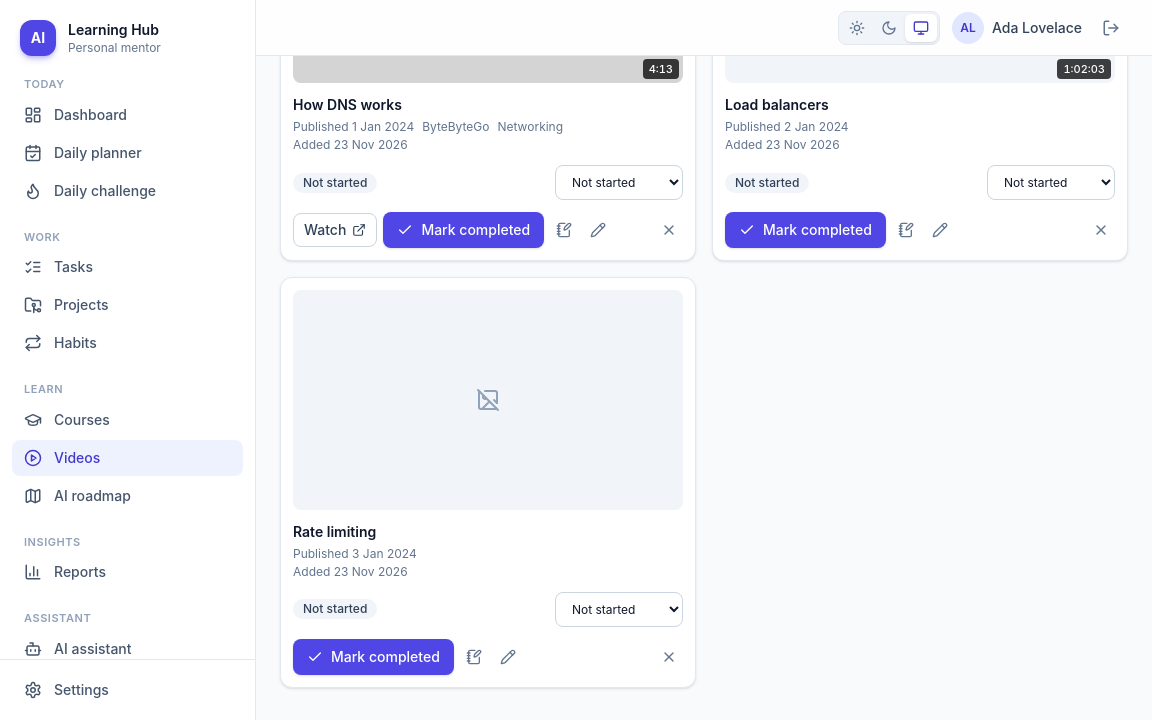
Test: video cards › shows the server's error on a card
(page scrolled)
Step 1. Click the button with aria-label "Mark Rate limiting as completed" → (373, 657), box x1=293 y1=639 x2=454 y2=675
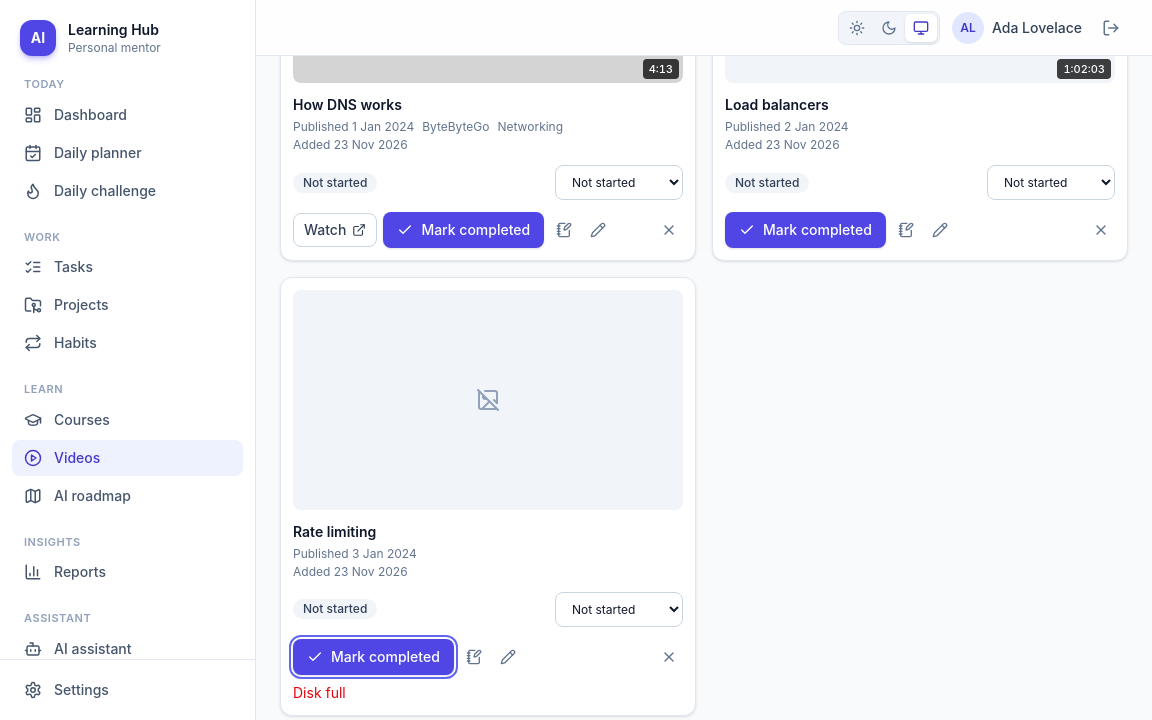
Now the message reads "Disk full", box x1=293 y1=684 x2=346 y2=701
